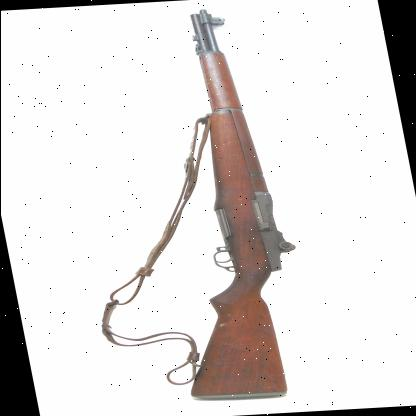rifle: (80, 0, 290, 397)
